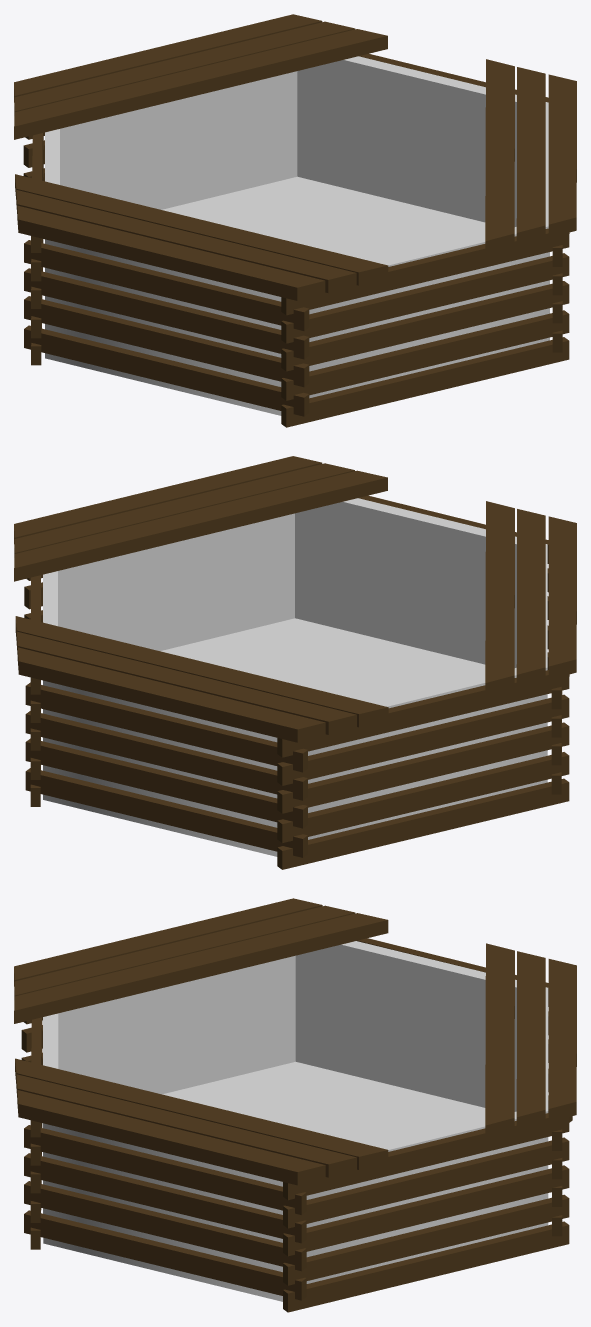
File: Bathtub03.fbx
3 views of the same model, one above another, from view 1: azimuth 30°, elevation 25°; view 2: azimuth 150°, elevation 25°; view 3: azimuth 270°, elevation 25° (orthographic).
Visible parts, largest first — view 1: Bathtub03; view 2: Bathtub03; view 3: Bathtub03.
Boxes of the visible parts, x1=… form: Bathtub03: x1=14, y1=14, x2=576, y2=427; Bathtub03: x1=14, y1=456, x2=576, y2=869; Bathtub03: x1=14, y1=898, x2=576, y2=1312.
Size of the model in its own units: 3.12 by 0.78 by 2.71.
